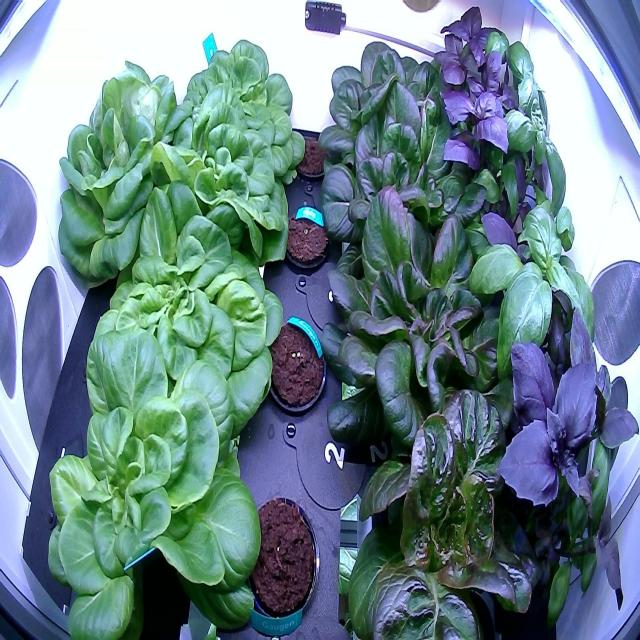Ready: (28, 320, 263, 640), (317, 174, 536, 463), (335, 374, 557, 640), (80, 187, 288, 430), (312, 77, 507, 293), (54, 49, 205, 296), (312, 27, 475, 193), (142, 83, 288, 262), (165, 31, 309, 201)
pod: (234, 488, 322, 632), (263, 306, 329, 420), (276, 199, 334, 278), (290, 122, 334, 185)
